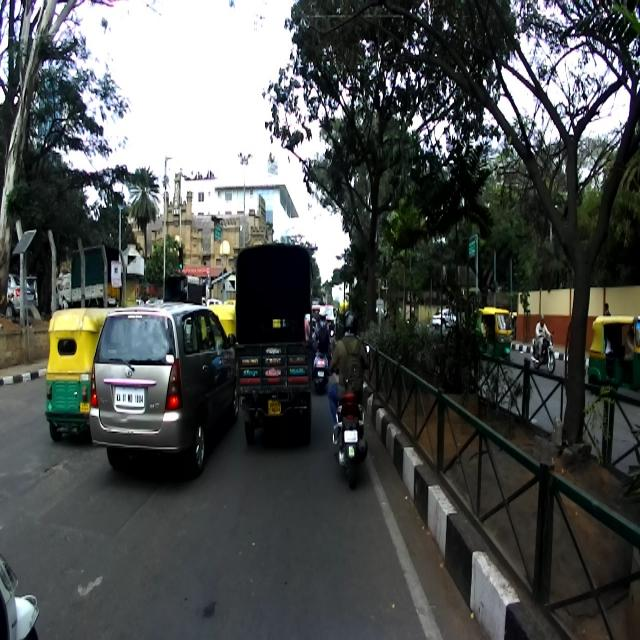autorickshaw: (44, 307, 114, 441), (587, 314, 639, 394)
car: (88, 302, 237, 473)
scooter: (331, 344, 369, 490)
